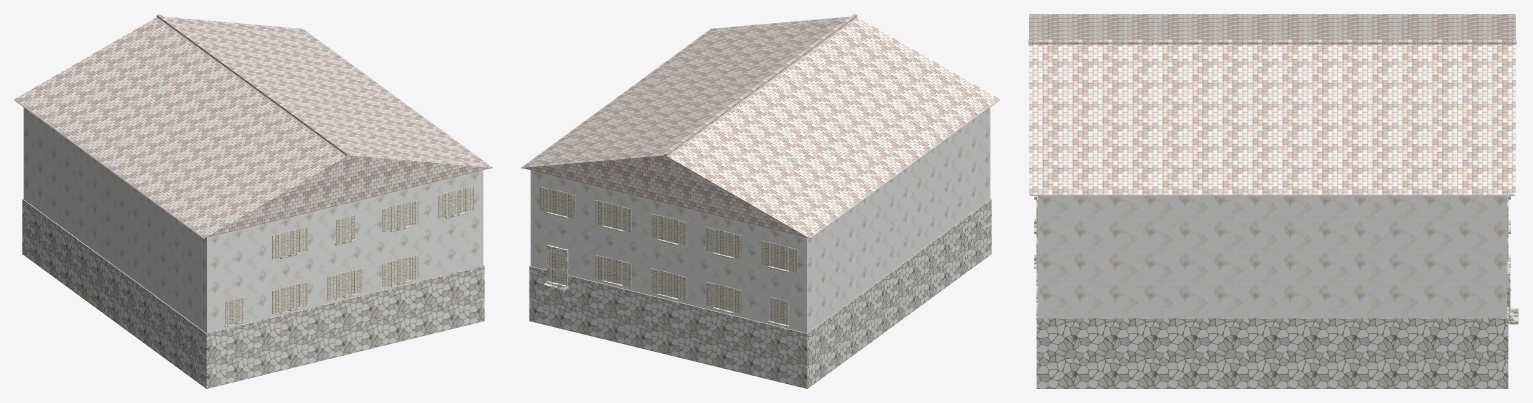
The picture shows the model from 3 angles, left to right: view 1: azimuth 30°, elevation 25°; view 2: azimuth 150°, elevation 25°; view 3: azimuth 270°, elevation 25°; orthographic projection. The views are drawn at different scales.
Visible parts, largest first — view 1: b615241433; view 2: b615241433; view 3: b615241433.
Boxes of the visible parts, x1,y1,x2,y2 form: b615241433: [14, 14, 492, 388]; b615241433: [521, 14, 999, 388]; b615241433: [1028, 14, 1518, 388].
Bounding box in the file's own units: 17.16 × 11.52 × 19.62.
Materials: 16 (16 with a texture image).
